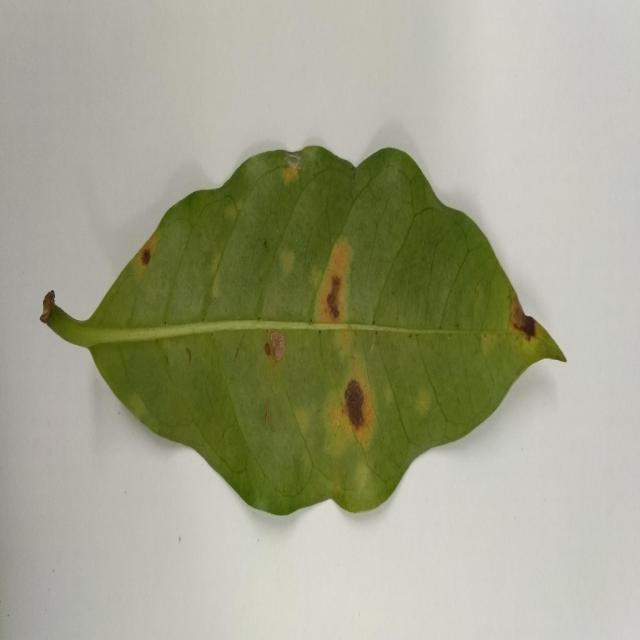Enfermedad-Roya: (38, 146, 566, 520)
